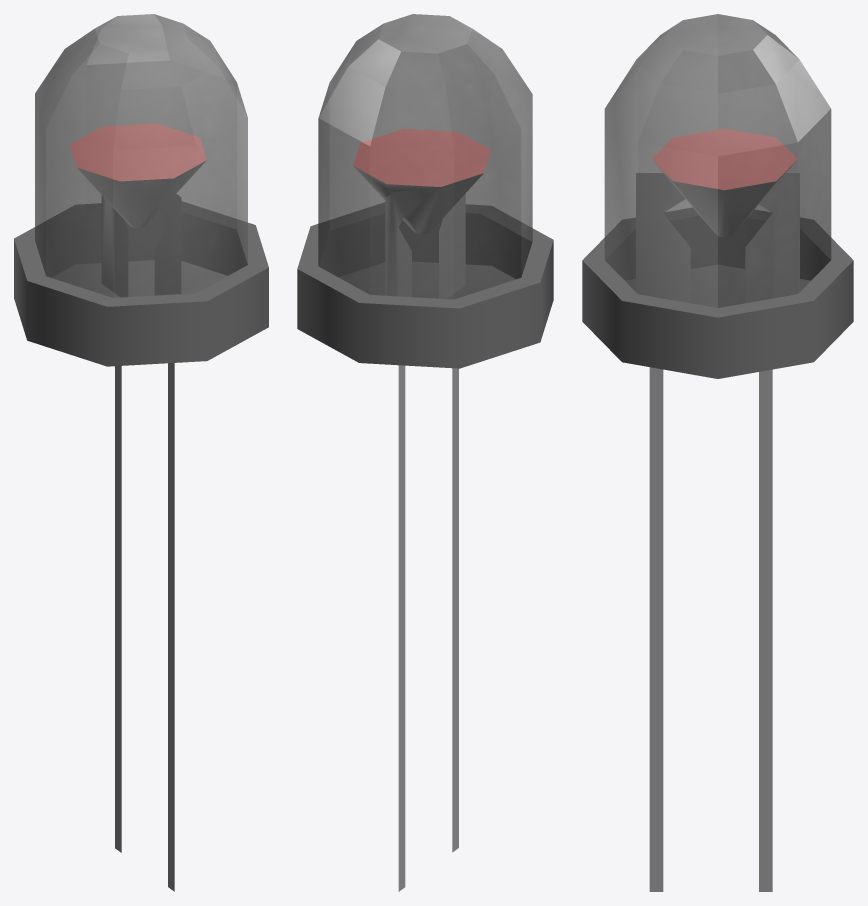
File: LED.fbx
3 renders of one model, left to right at view 1: azimuth 30°, elevation 25°; view 2: azimuth 150°, elevation 25°; view 3: azimuth 270°, elevation 25°, orthographic. The views are drawn at different scales.
Visible parts, largest first — view 1: Component_13_1, Group1; view 2: Component_13_1, Group1; view 3: Component_13_1, Group1.
Boxes of the visible parts, x1=… form: Component_13_1: x1=14, y1=14, x2=268, y2=366; Group1: x1=70, y1=123, x2=206, y2=891; Component_13_1: x1=297, y1=14, x2=553, y2=368; Group1: x1=353, y1=129, x2=490, y2=891; Component_13_1: x1=582, y1=14, x2=853, y2=378; Group1: x1=636, y1=128, x2=799, y2=891.
Size of the model in its own units: 0.0191 by 0.0664 by 0.0191.
4 materials, 1 textured.
